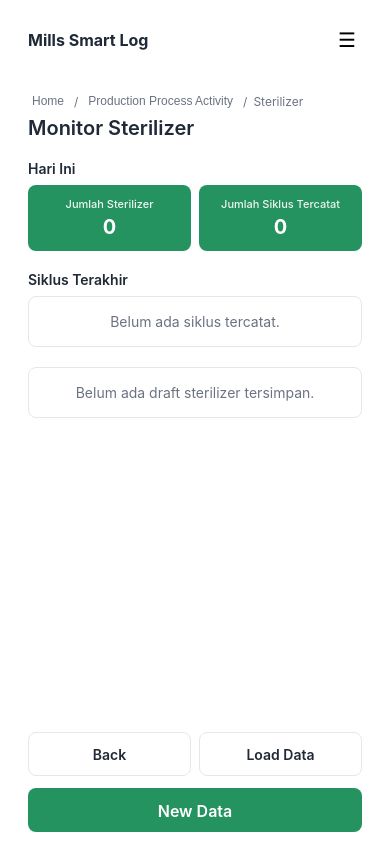
MonitorSterilizerView › opens the nav menu (Ganti Password, Logout) when the hamburger icon is tapped
The width and height of the screenshot is (390, 844).
Click the button with test id "hamburger-button" at x=347, y=40, box [332,27,362,53]
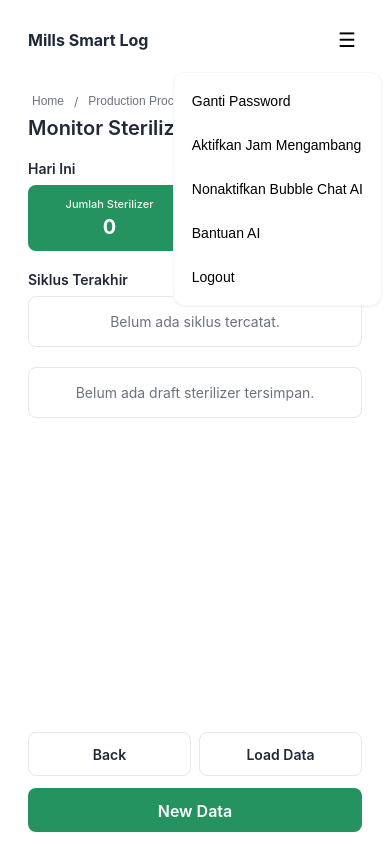
Expected: the element with test id "nav-menu" is shown, [173,72,382,306]
